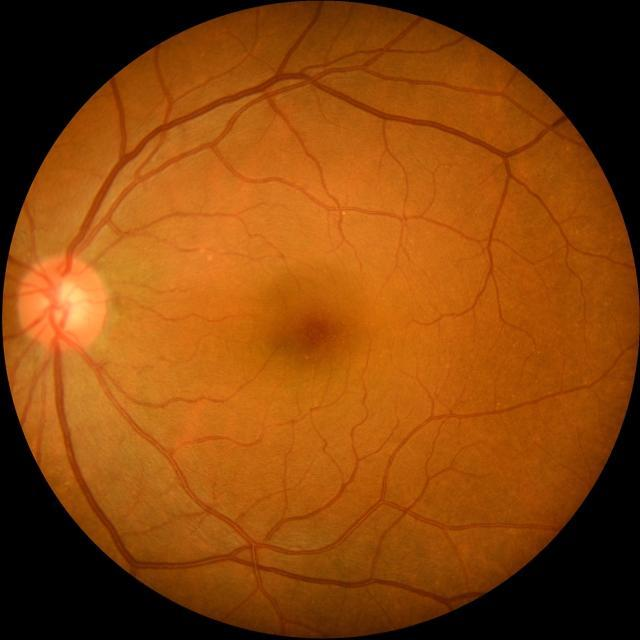OC: (42, 278, 88, 330)
OD: (17, 258, 107, 350)
